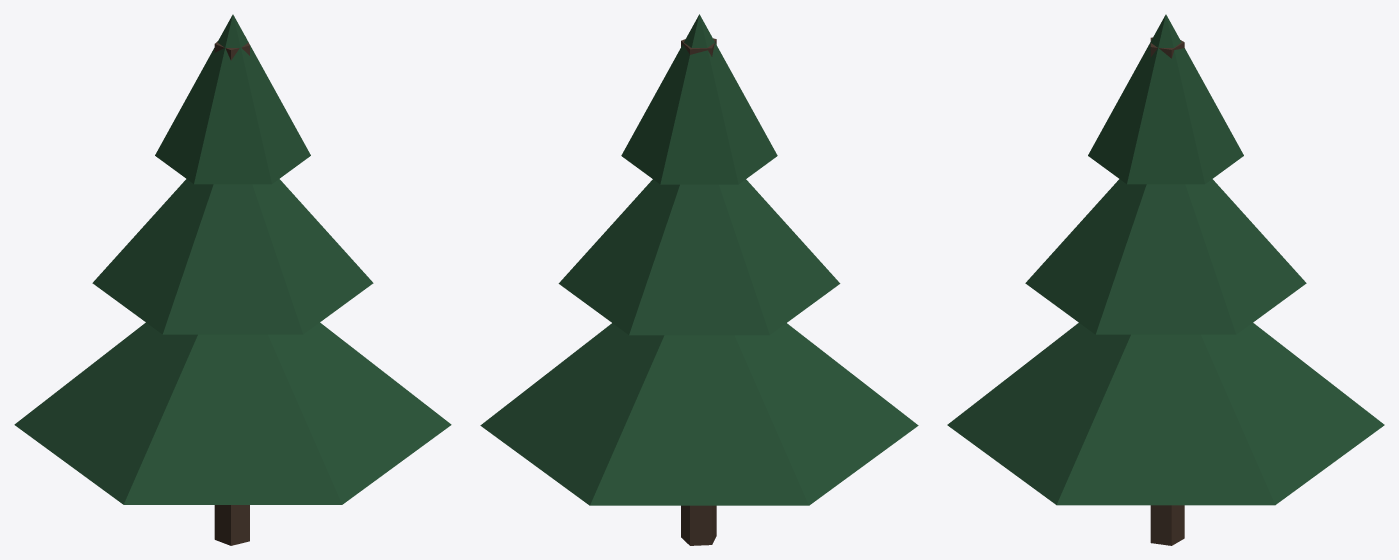
Rendered from spruce_young.glb.
The picture shows the model from 3 angles, left to right: view 1: azimuth 30°, elevation 25°; view 2: azimuth 150°, elevation 25°; view 3: azimuth 270°, elevation 25°; orthographic projection.
Parts seen in each view (by area): view 1: SpruceYoung; view 2: SpruceYoung; view 3: SpruceYoung.
Part boxes in pixels (x1,y1,x2,y2): SpruceYoung: (14,14,451,545); SpruceYoung: (480,14,918,545); SpruceYoung: (947,14,1384,545).
Bounding box in the file's own units: 2.42 × 3.7 × 2.8.
